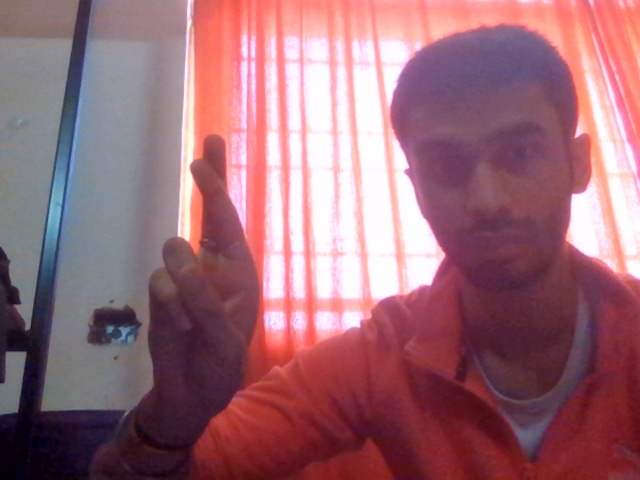R: (111, 125, 325, 462)
